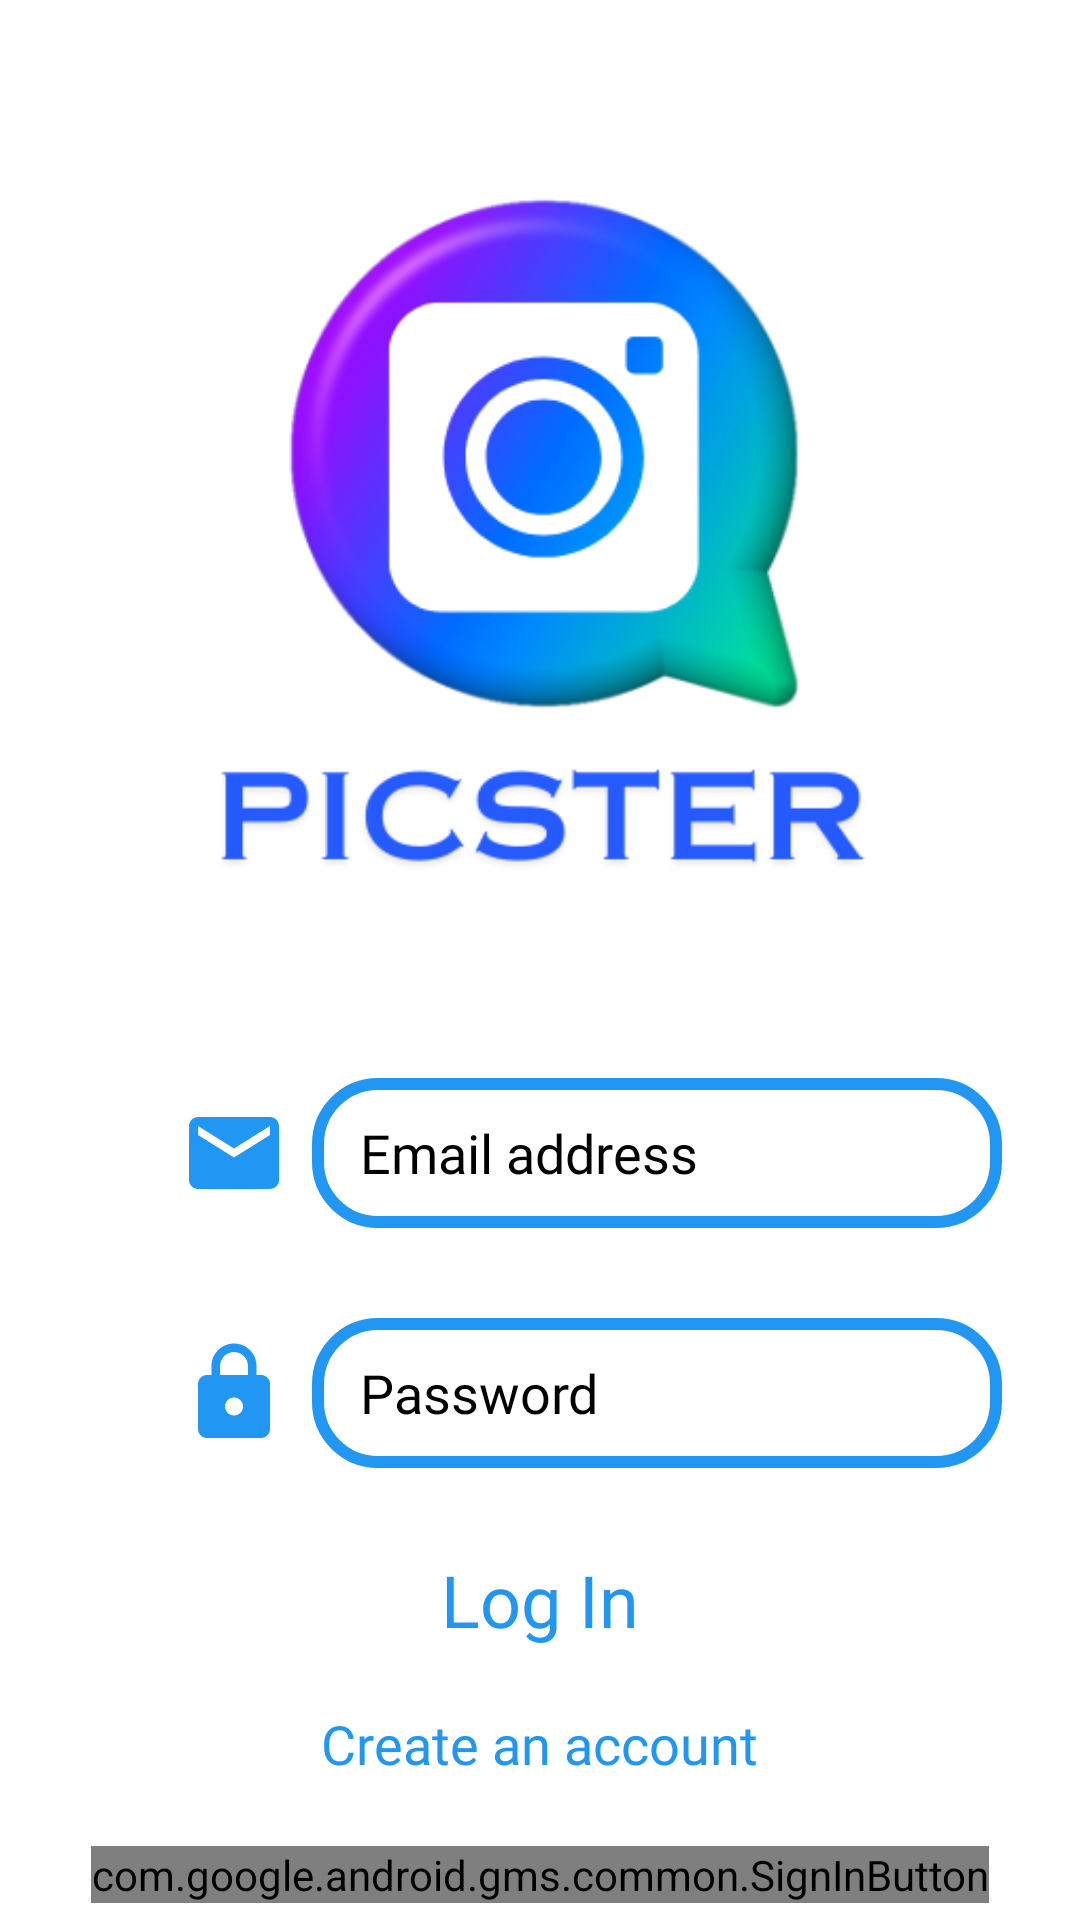

Icon bounding boxes for this 1080 × 1920 phone screenshot, format bbox=(x1, y1, x2, y2):
lock: bbox=(198, 1343, 270, 1438)
